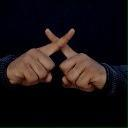hand: (6, 27, 75, 86), (44, 27, 106, 92)
